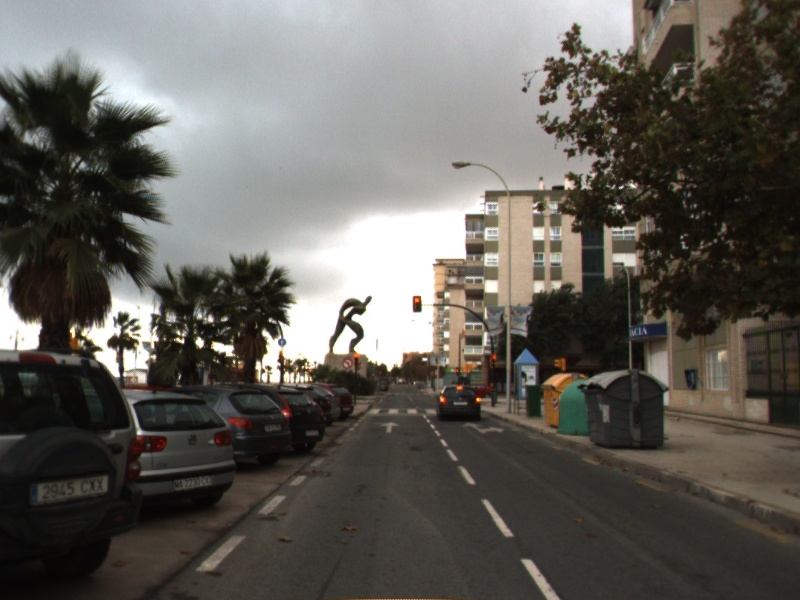STRAIGHT: (378, 420, 402, 435)
STRAIGHT_RIGHT: (460, 420, 506, 435)
